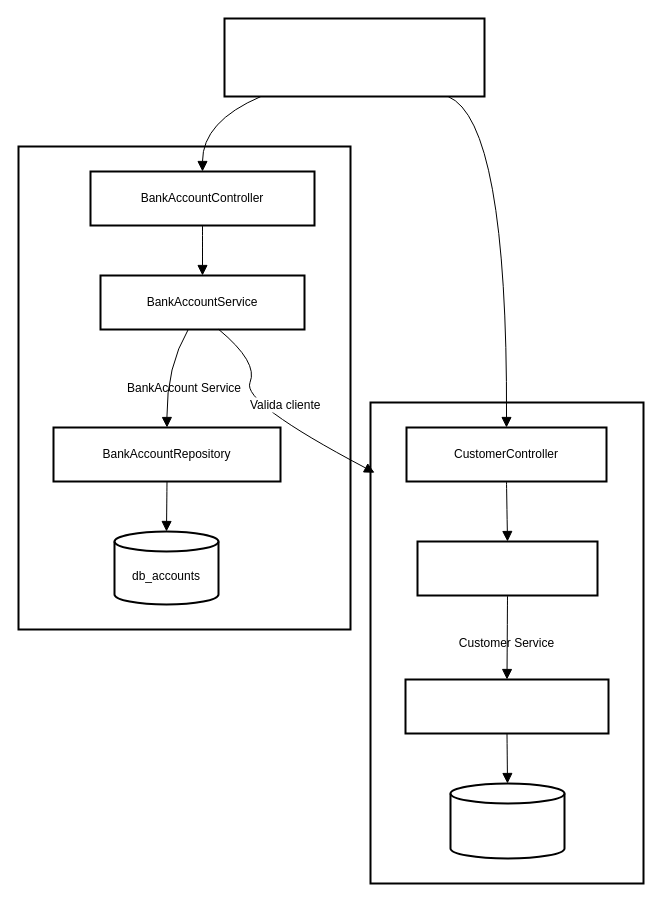
This 661x901 diagram has some shape labels left out. Each missing label, with the centre of its shape:
"CustomerRepository" goes at pixel 506 706.
"CustomerService" goes at pixel 507 568.
"db_customers" goes at pixel 507 820.
"Usuario / Postman / Frontend" goes at pixel 354 57.
